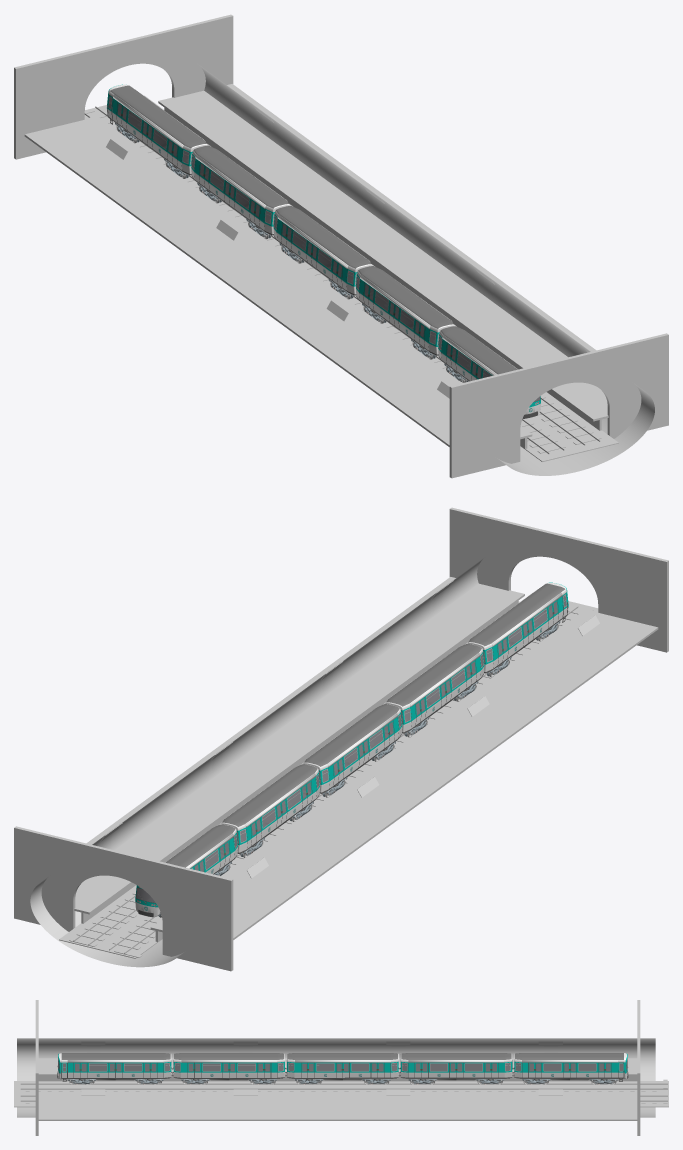
File: station_vide.glb
3 renders of one model, top to bottom at view 1: azimuth 30°, elevation 25°; view 2: azimuth 150°, elevation 25°; view 3: azimuth 270°, elevation 25°, orthographic. The views are drawn at different scales.
Visible parts, largest first — view 1: Quai 2, Quai 1, Mur 1, Mur 2, Voûte, Voies, Sous quai 1, Groupe#46.018, Groupe#46.002, Groupe#46.005, Groupe#46.016, Groupe#46 (+4 smaller); view 2: Quai 2, Quai 1, Mur 2, Mur 1, Voûte, Voies, Sous quai 1, Groupe#46.005, Groupe#46.018, Groupe#46.011, Groupe#46.007, Groupe#46.016 (+4 smaller); view 3: Quai 1, Voûte, Voies, Rail 2 Voie 1, Rail 1 Voie 1, Sous quai 2, Groupe#46.001, Groupe#46.003, Groupe#46.006, Groupe#46.008, Groupe#46.004, Groupe#46.010 (+7 smaller).
Part boxes in pixels (x1,y1,x2,y2): Quai 2: [24, 116, 532, 446]; Quai 1: [158, 84, 608, 421]; Mur 1: [449, 333, 668, 478]; Mur 2: [14, 14, 233, 159]; Voûte: [199, 65, 654, 475]; Voies: [84, 95, 618, 461]; Sous quai 1: [164, 108, 601, 430]; Groupe#46.018: [312, 236, 358, 292]; Groupe#46.002: [229, 176, 275, 232]; Groupe#46.005: [394, 296, 440, 351]; Groupe#46.016: [276, 211, 323, 269]; Groupe#46: [194, 150, 240, 208]; Quai 2: [150, 609, 658, 939]; Quai 1: [74, 577, 524, 914]; Mur 2: [14, 826, 233, 971]; Mur 1: [449, 507, 668, 652]; Voûte: [30, 558, 519, 967]; Voies: [59, 592, 598, 958]; Sous quai 1: [81, 601, 518, 923]; Groupe#46.005: [434, 649, 480, 707]; Groupe#46.018: [352, 709, 398, 767]; Groupe#46.011: [482, 614, 527, 670]; Groupe#46.007: [400, 674, 445, 730]; Groupe#46.016: [317, 734, 363, 790]; Quai 1: [38, 1094, 637, 1120]; Voûte: [17, 1038, 655, 1117]; Voies: [14, 1081, 668, 1107]; Rail 2 Voie 1: [20, 1088, 667, 1089]; Rail 1 Voie 1: [20, 1083, 667, 1084]; Sous quai 2: [38, 1075, 637, 1081]; Groupe#46.001: [456, 1055, 504, 1080]; Groupe#46.003: [408, 1055, 456, 1080]; Groupe#46.006: [229, 1055, 277, 1080]; Groupe#46.008: [67, 1055, 115, 1080]; Groupe#46.004: [181, 1055, 229, 1080]; Groupe#46.010: [115, 1055, 163, 1080].
Size of the model in its own units: 22.74 by 10.13 by 85.93.
Materials: 26 (1 with a texture image).
